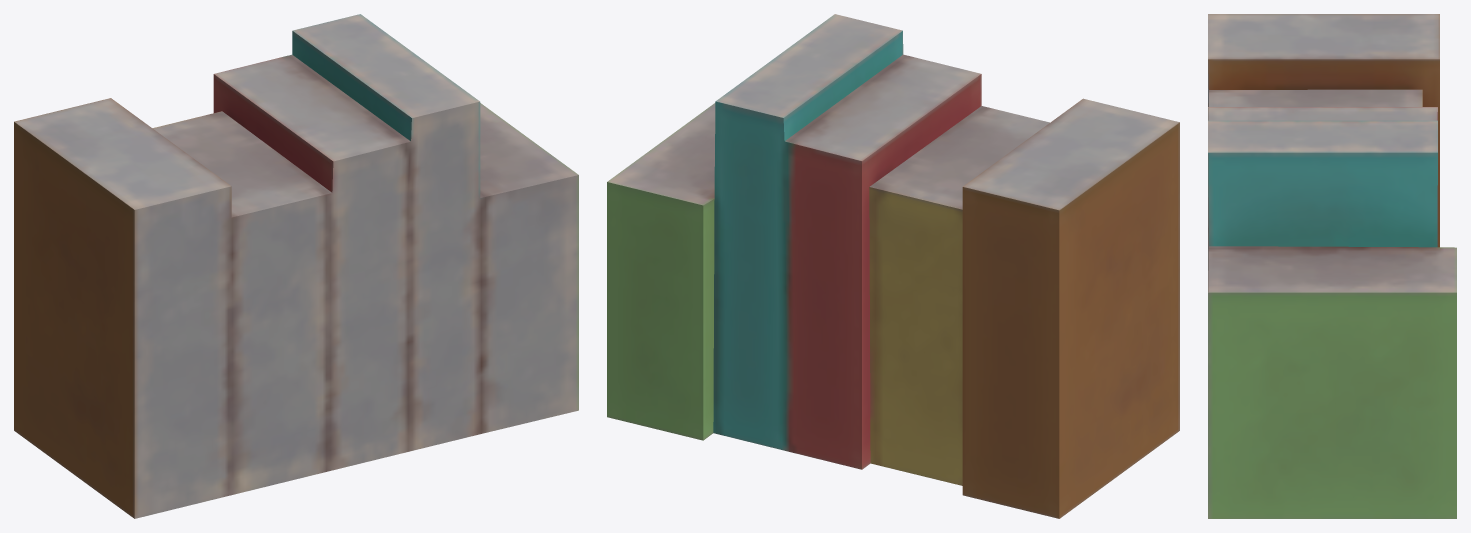
The model's file is Pfb_Indoors_Books.fbx.
The picture shows the model from 3 angles, left to right: view 1: azimuth 30°, elevation 25°; view 2: azimuth 150°, elevation 25°; view 3: azimuth 270°, elevation 25°; orthographic projection. The views are drawn at different scales.
Visible parts, largest first — view 1: Mat_Indoors_Books_01; view 2: Mat_Indoors_Books_01; view 3: Mat_Indoors_Books_01.
Part boxes in pixels (x1=…): Mat_Indoors_Books_01: x1=14, y1=14, x2=578, y2=518; Mat_Indoors_Books_01: x1=607, y1=14, x2=1179, y2=518; Mat_Indoors_Books_01: x1=1208, y1=14, x2=1456, y2=518.
Bounding box in the file's own units: 0.6743 × 0.4831 × 0.3403.
1 material, 1 textured.
